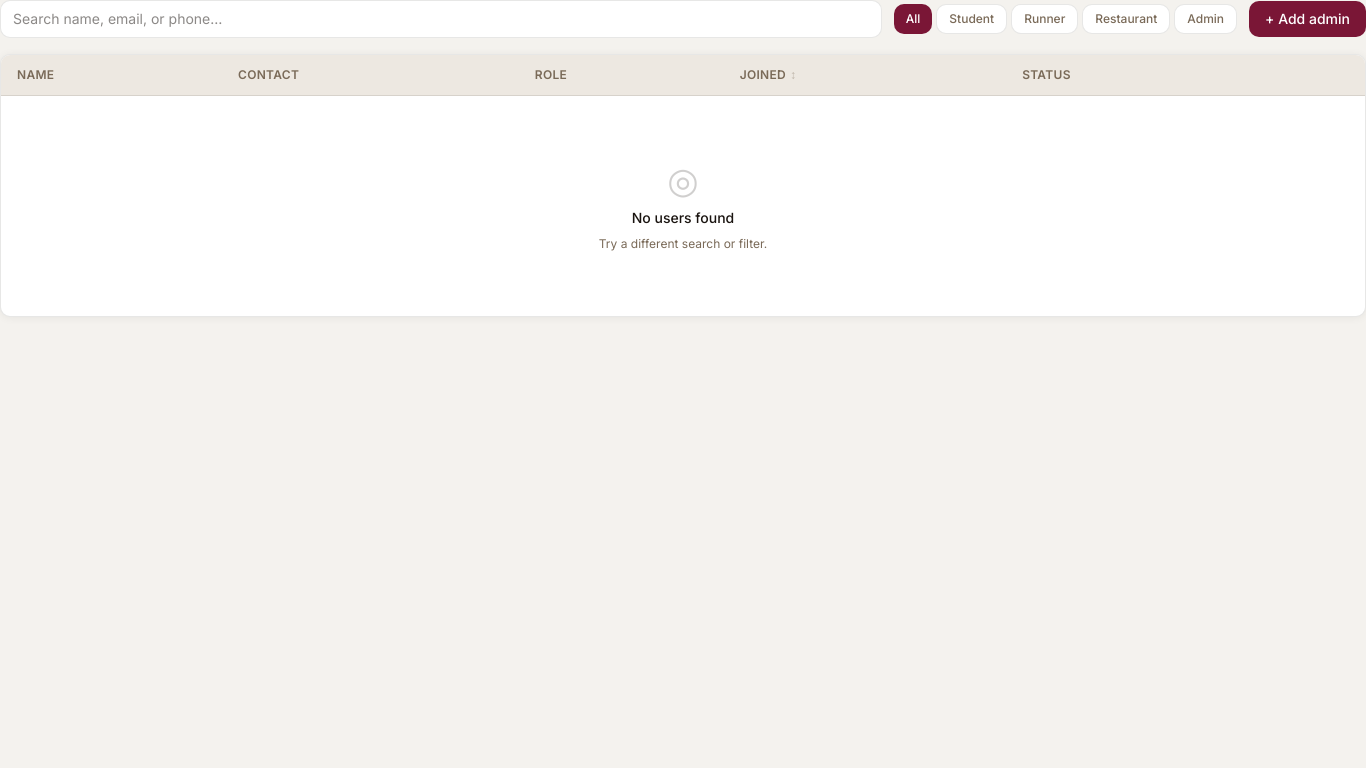
Test: Add admin › sends name and email only (no password), adds the admin to the list and confirms the invite
Click the button "+ Add admin" at (1308, 19), box [1249,1,1365,37]
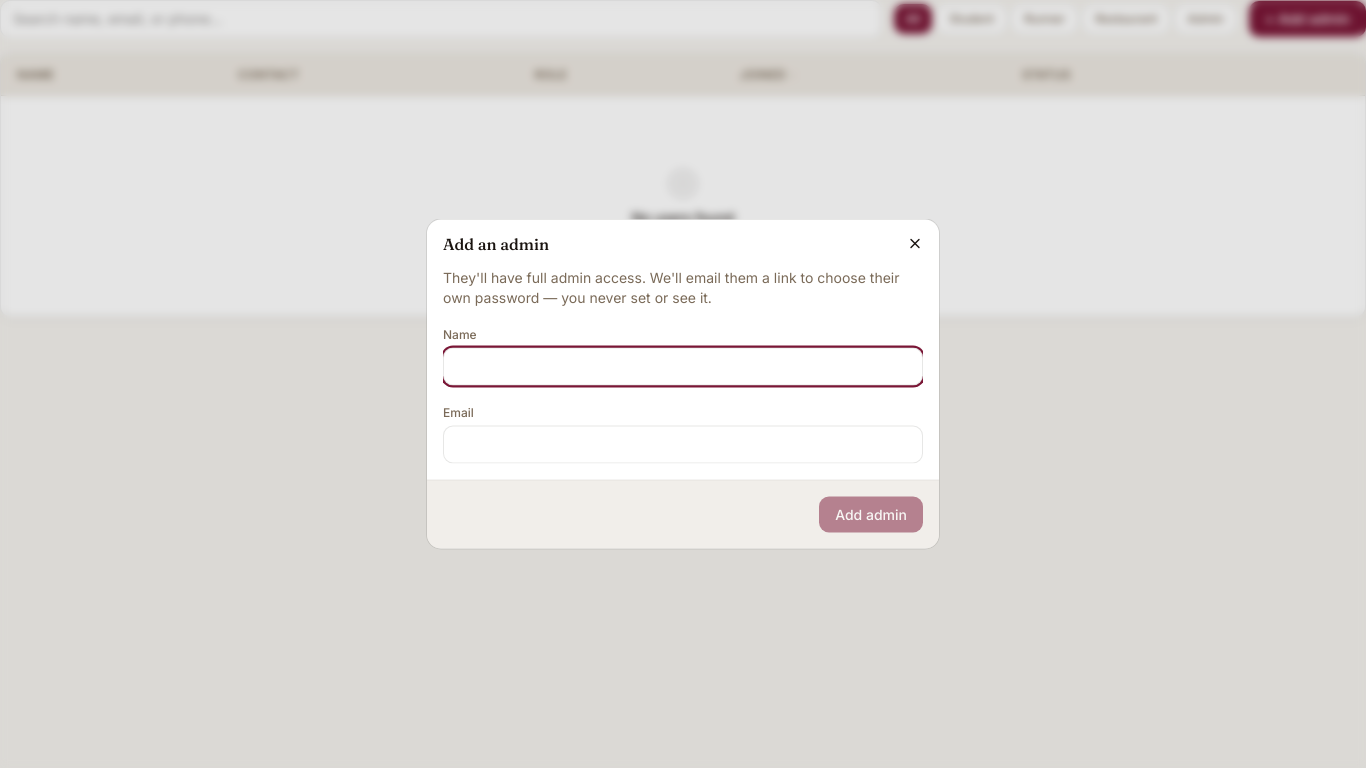
expect the button "Add admin" is disabled: met, box [819,496,923,532]
Type "Ops" into the field labelled "Name" at (683, 366), box [443,348,923,386]
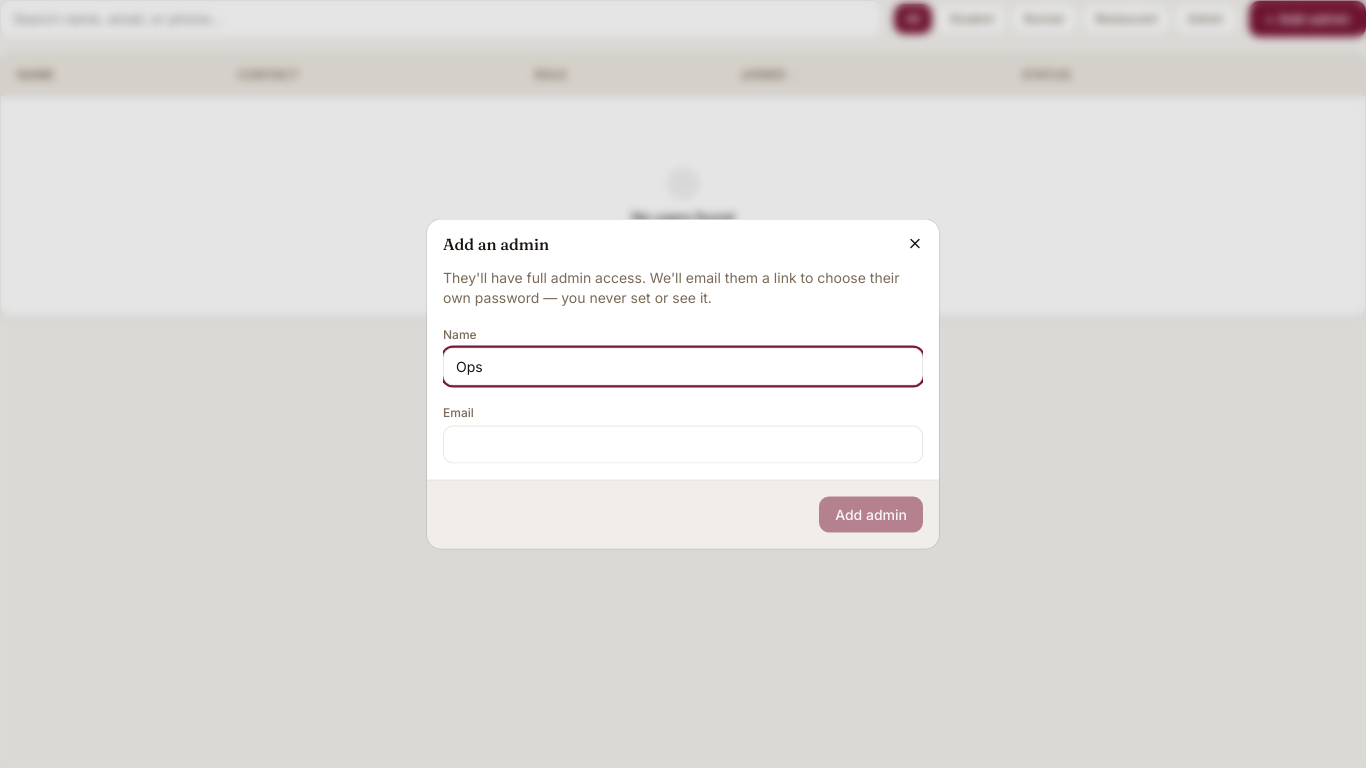
Type "not-an-email" into the field labelled "Email" at (683, 444), box [443,426,923,464]
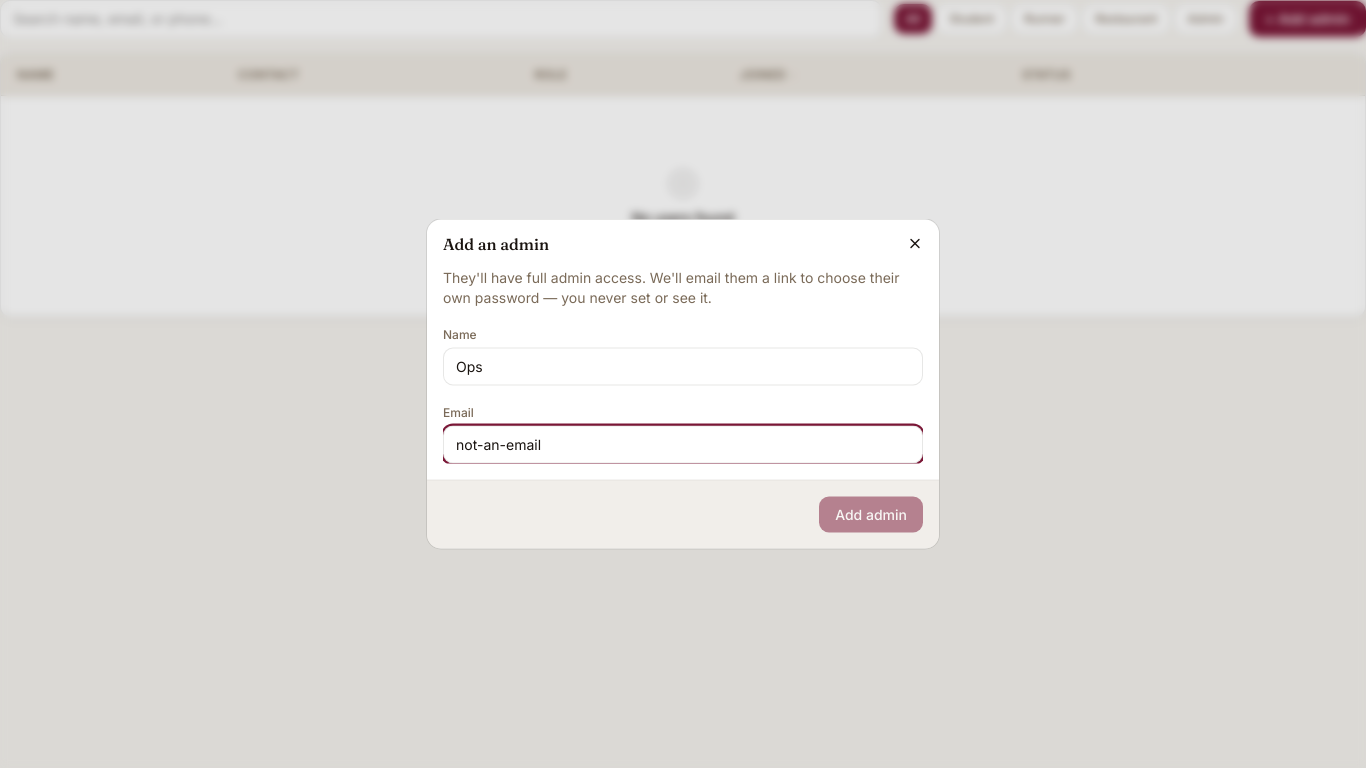
expect the button "Add admin" is disabled: met, box [819,496,923,532]
Replace the text in the field labelled "Email" with "ops@bridgitcampus.com" at (683, 444), box [443,426,923,464]
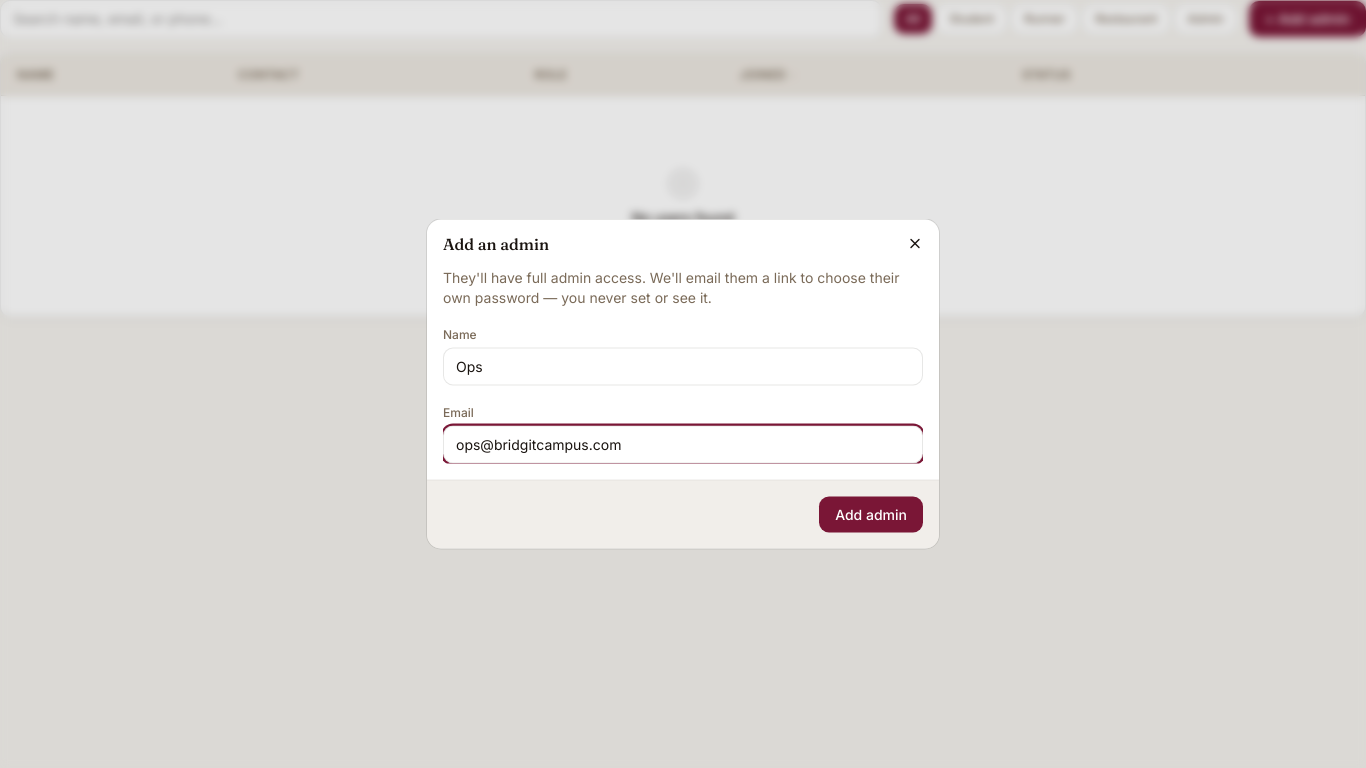
Click the button "Add admin" at (871, 514), box [819,496,923,532]
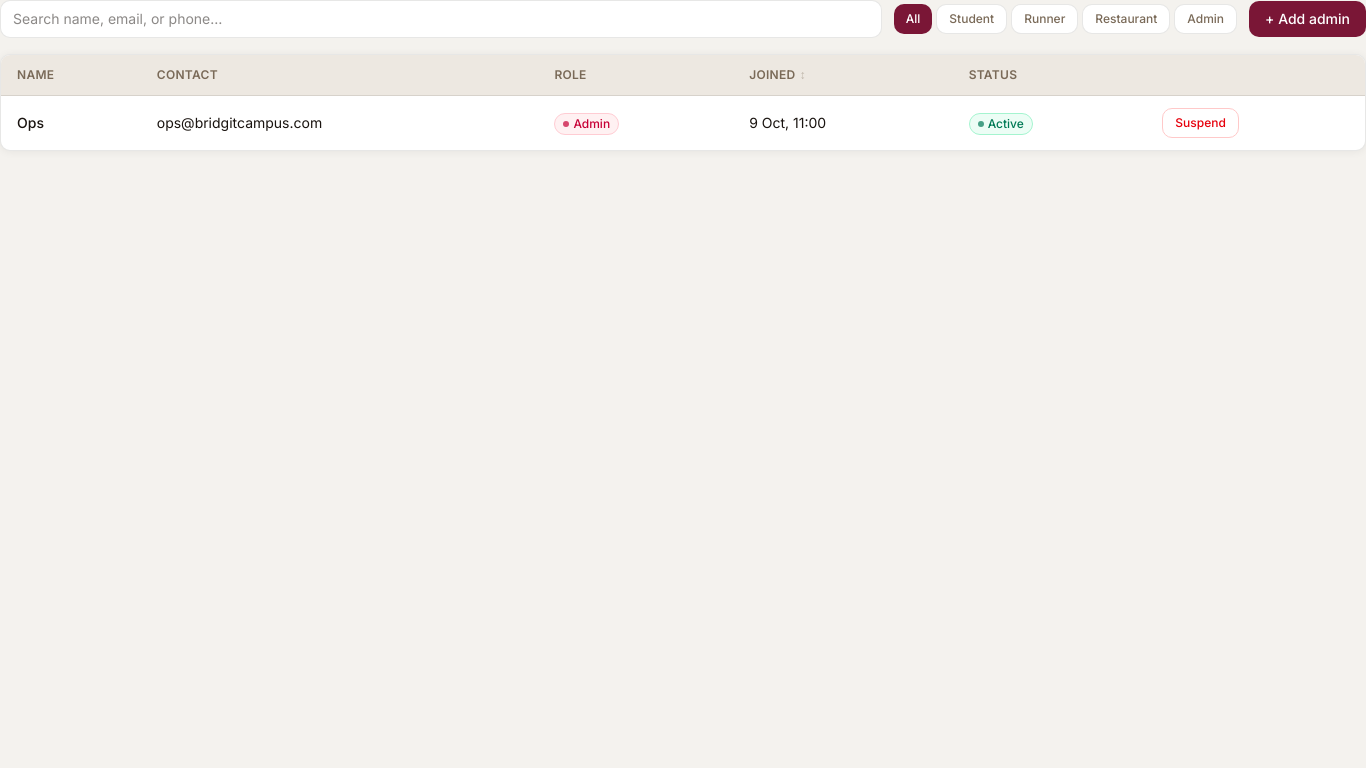
expect the dialog is gone: met
expect the text "ops@bridgitcampus.com" is shown: met, box [157,114,322,131]
